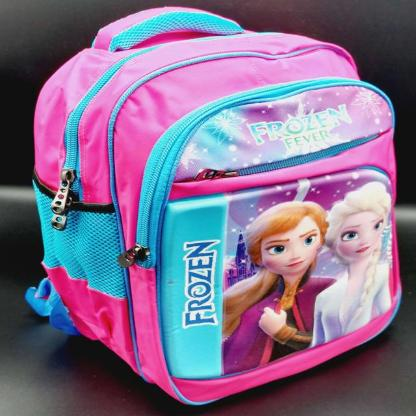bag: (24, 0, 409, 406)
